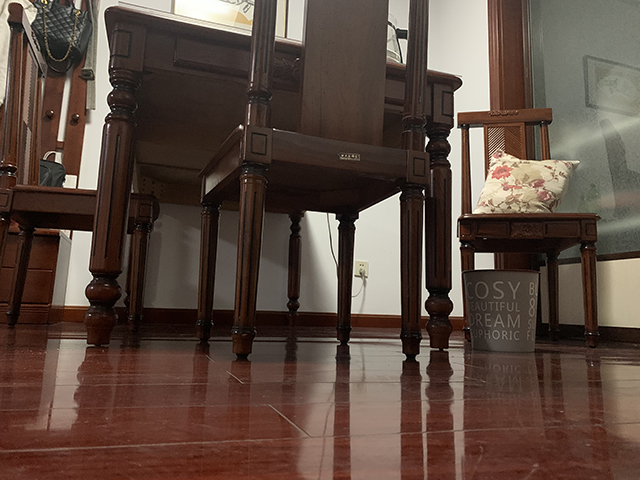stool: (196, 1, 431, 360), (1, 1, 161, 338), (456, 107, 602, 349)
table: (83, 1, 464, 352)
trashcan: (460, 268, 542, 354)
